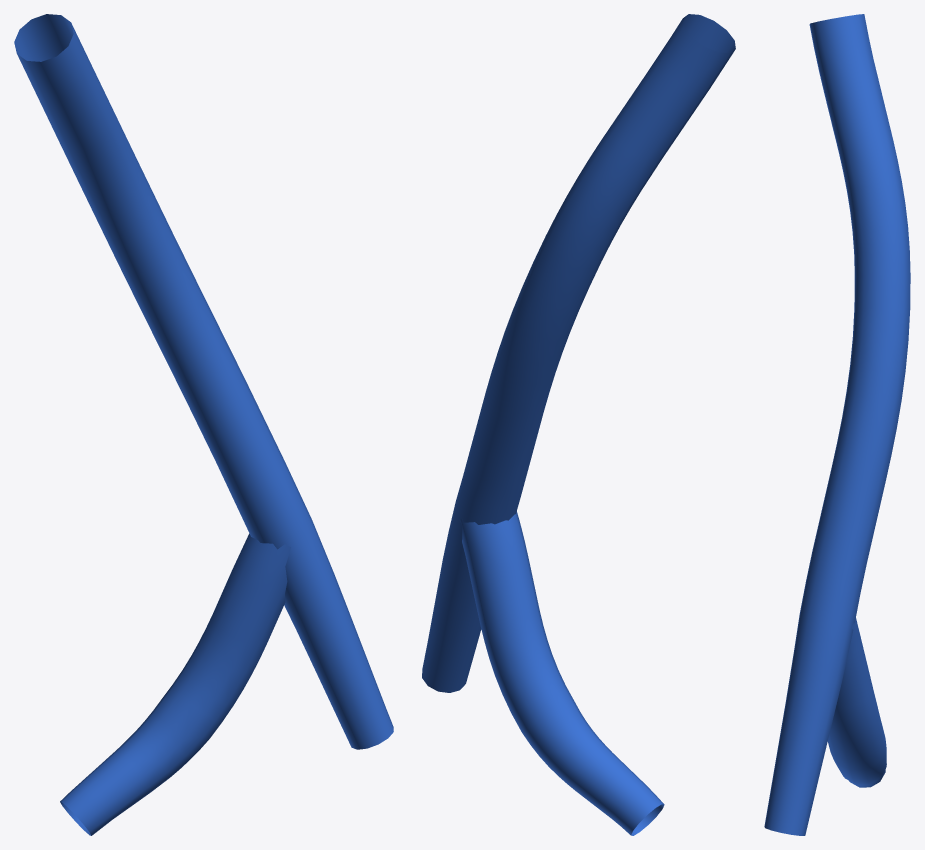
Rendered from circulatorio-medial-basal-segmental-artery-of-right-lung.glb.
3 renders of one model, left to right at view 1: azimuth 30°, elevation 25°; view 2: azimuth 150°, elevation 25°; view 3: azimuth 270°, elevation 25°, orthographic. The views are drawn at different scales.
Visible parts, largest first — view 1: Medial basal segmental artery of right lung; view 2: Medial basal segmental artery of right lung; view 3: Medial basal segmental artery of right lung.
Part boxes in pixels (left/top/right/bottom): Medial basal segmental artery of right lung: left=14, top=14, right=393, bottom=835; Medial basal segmental artery of right lung: left=422, top=14, right=735, bottom=835; Medial basal segmental artery of right lung: left=764, top=14, right=910, bottom=835.
Bounding box in the file's own units: 0.0252 × 0.0586 × 0.0103.
